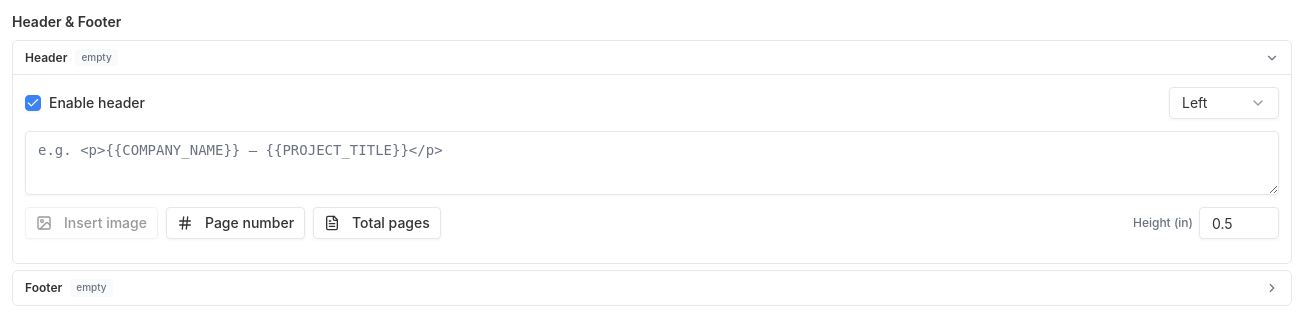
Test: TemplateFurniturePanel — content editing › disables the content box when the header is switched off
Step 1. Click the checkbox named "enable header" → (33, 103), box [25, 95, 41, 111]
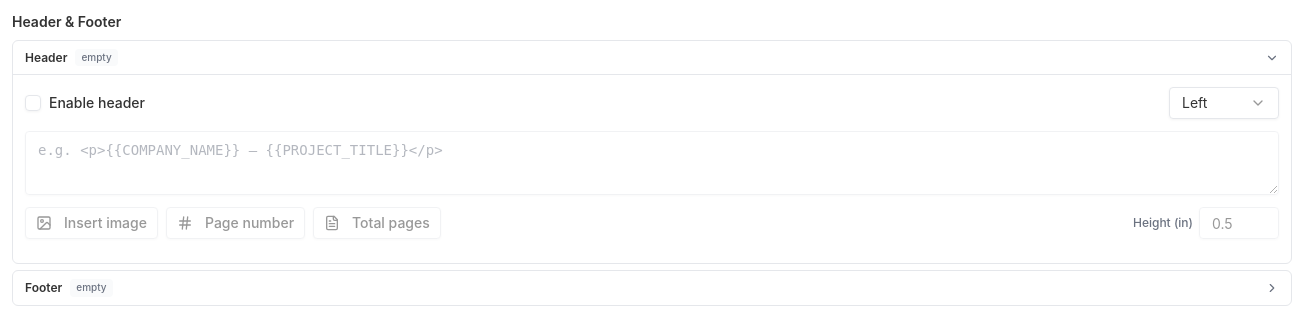
Now the text box named "Header content" is disabled, box [25, 131, 1279, 195]
